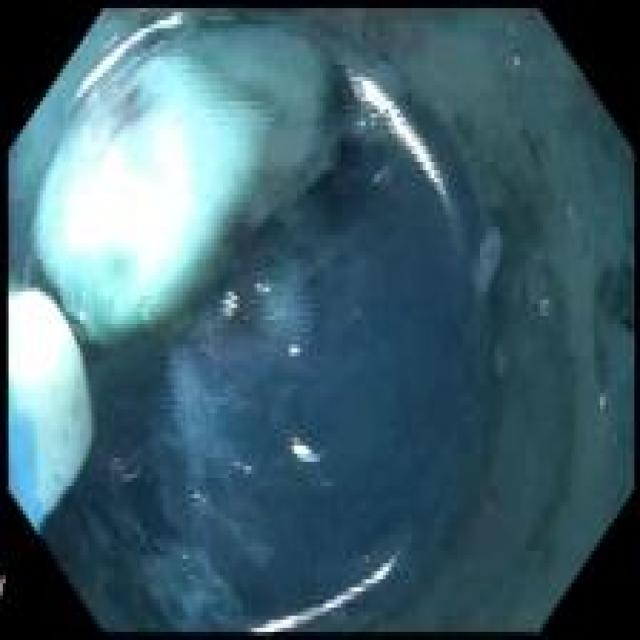instrument: (9, 288, 94, 530)
saturation: (62, 124, 198, 282), (9, 294, 72, 387)
specularity: (349, 69, 447, 196), (251, 560, 394, 636), (77, 14, 184, 101), (293, 442, 318, 461), (224, 294, 240, 318), (289, 346, 299, 356)
